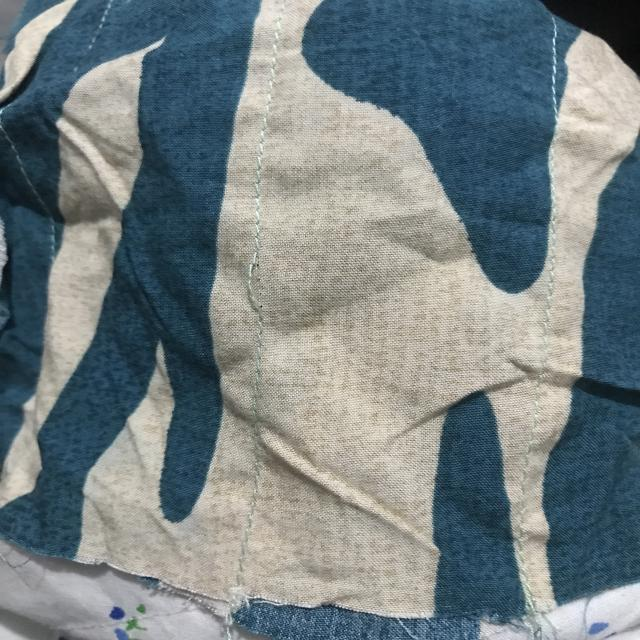skip: (236, 243, 278, 326)
